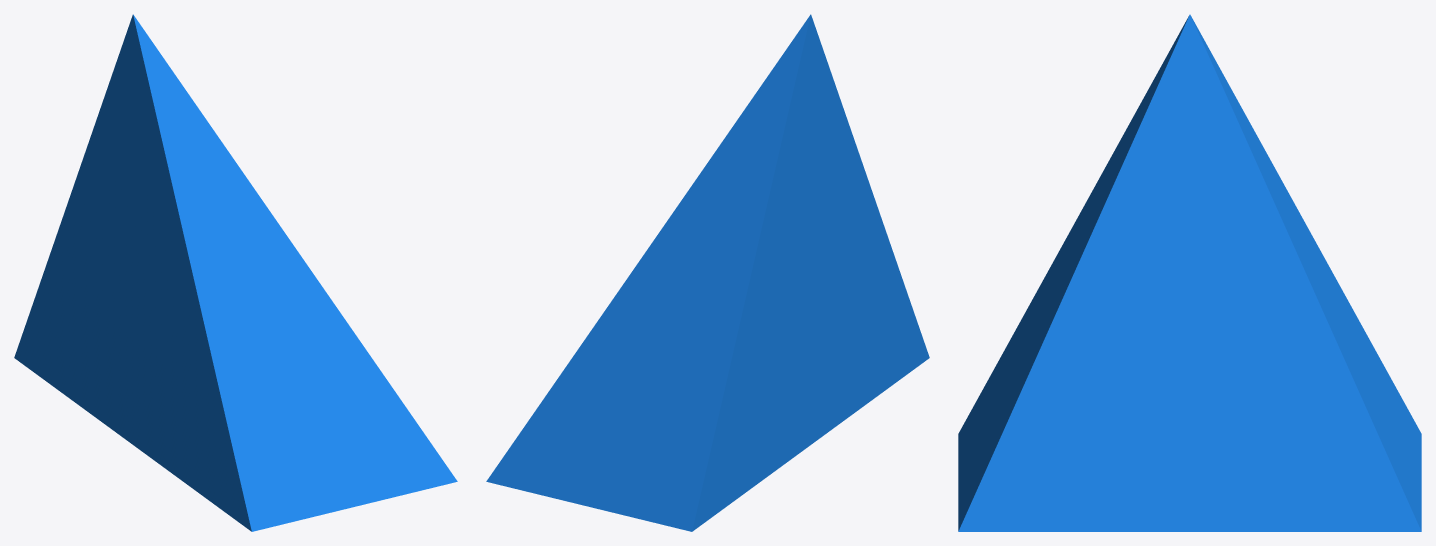
File: Proto_Block_Top_Point_Square_Half_01.fbx
The picture shows the model from 3 angles, left to right: view 1: azimuth 30°, elevation 25°; view 2: azimuth 150°, elevation 25°; view 3: azimuth 270°, elevation 25°; orthographic projection. The views are drawn at different scales.
Visible parts, largest first — view 1: Proto_Block_Top_Point_Square_Half_01; view 2: Proto_Block_Top_Point_Square_Half_01; view 3: Proto_Block_Top_Point_Square_Half_01.
Part boxes in pixels (box(x1,y1,x2,y2)): Proto_Block_Top_Point_Square_Half_01: box(14, 14, 457, 531); Proto_Block_Top_Point_Square_Half_01: box(486, 14, 929, 531); Proto_Block_Top_Point_Square_Half_01: box(958, 14, 1421, 531).
Size of the model in its own units: 0.5 by 1 by 1.
